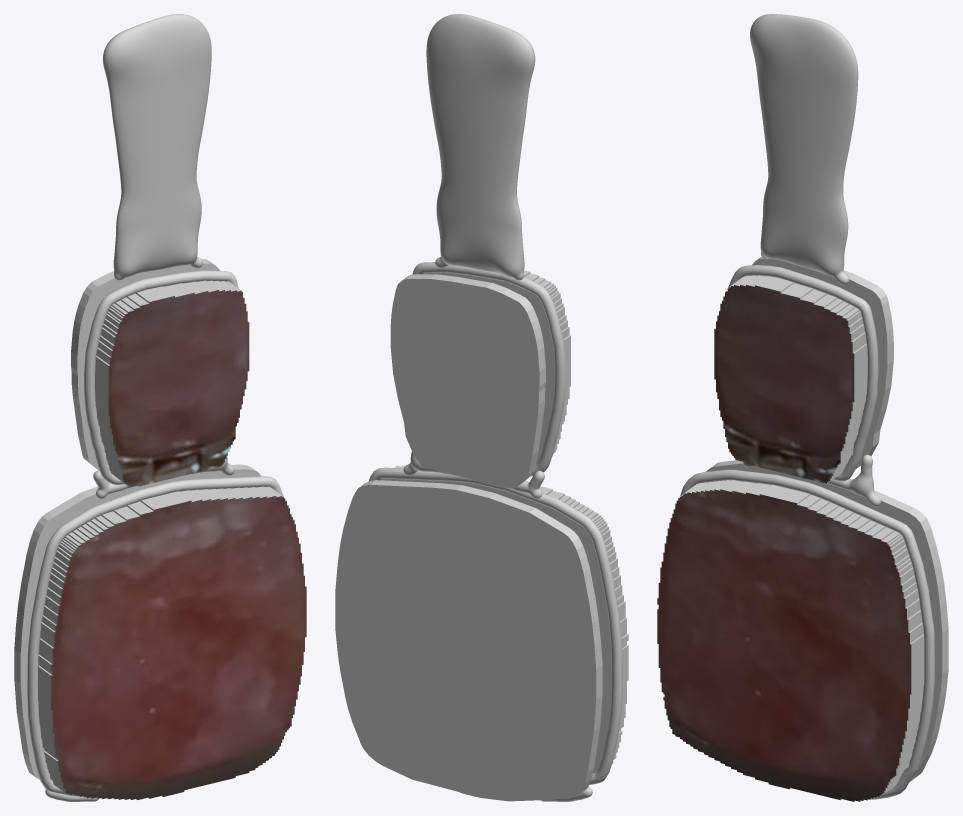
3 renders of one model, left to right at view 1: azimuth 30°, elevation 25°; view 2: azimuth 150°, elevation 25°; view 3: azimuth 330°, elevation 25°, orthographic.
Visible parts, largest first — view 1: joya; view 2: joya; view 3: joya.
Boxes of the visible parts, box(x1,y1,x2,y2) form: joya: box(14, 14, 306, 801); joya: box(335, 14, 628, 801); joya: box(657, 14, 948, 801).
Size of the model in its own units: 0.0148 by 0.0398 by 0.00325.
2 materials, 1 textured.
